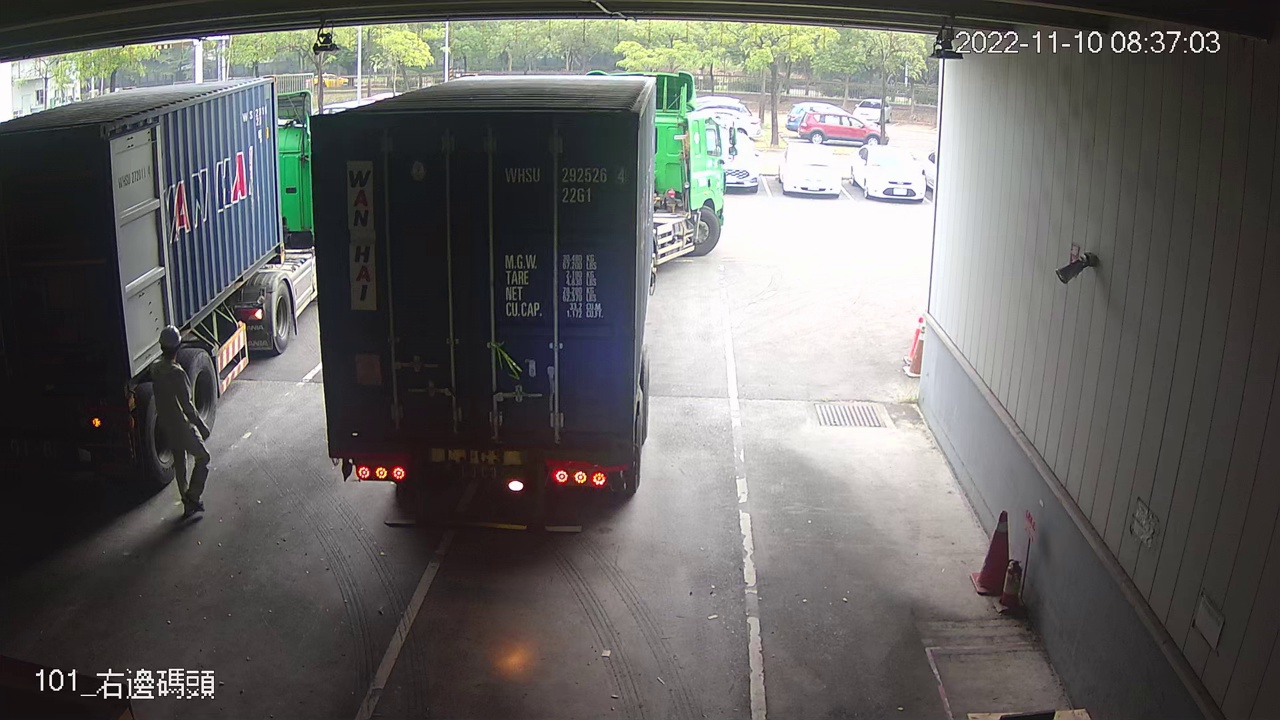container: (499, 162, 629, 208)
